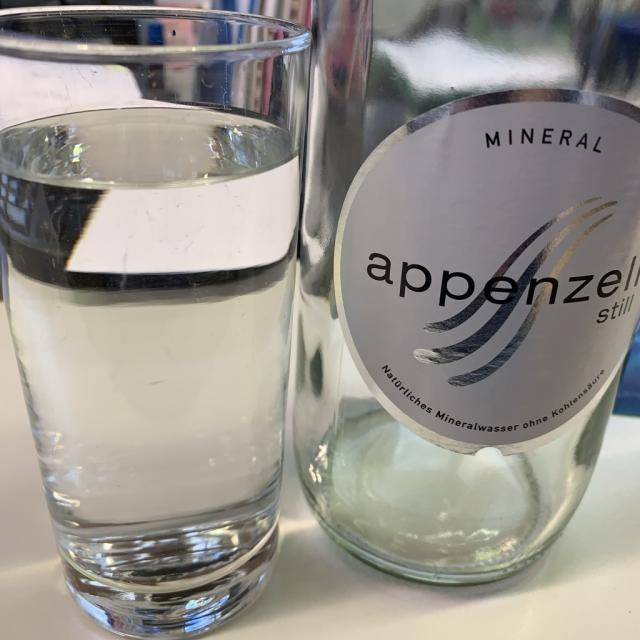water: (7, 100, 301, 567)
